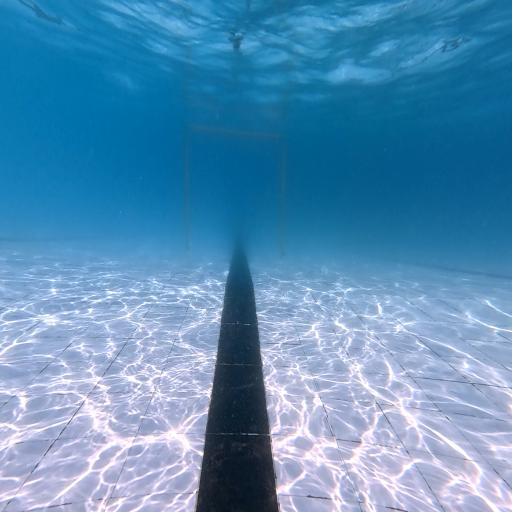gate: (184, 126, 285, 256)
